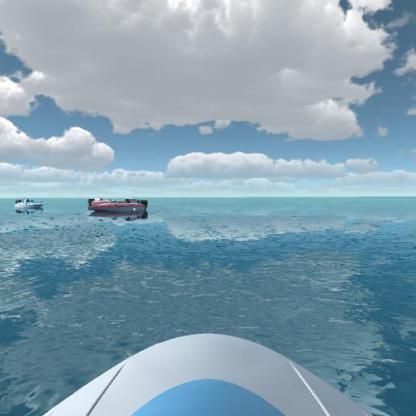usv1: (13, 194, 46, 214)
usv3: (89, 197, 150, 217), (84, 193, 127, 210)
